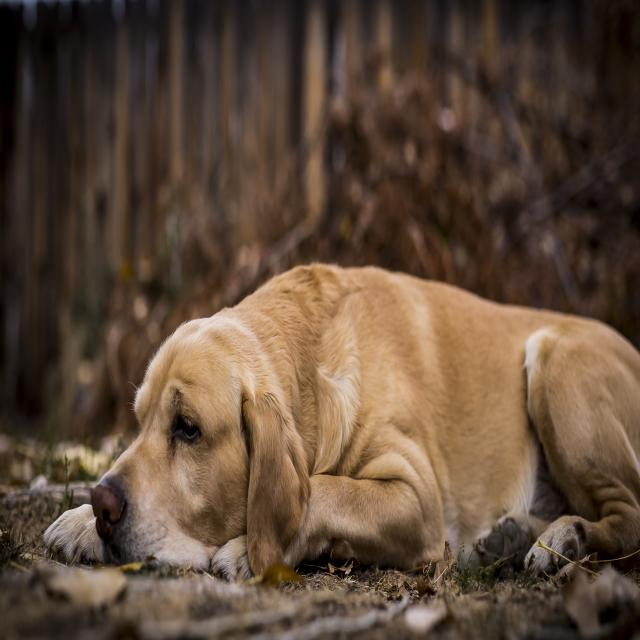laying down: (41, 258, 640, 590)
